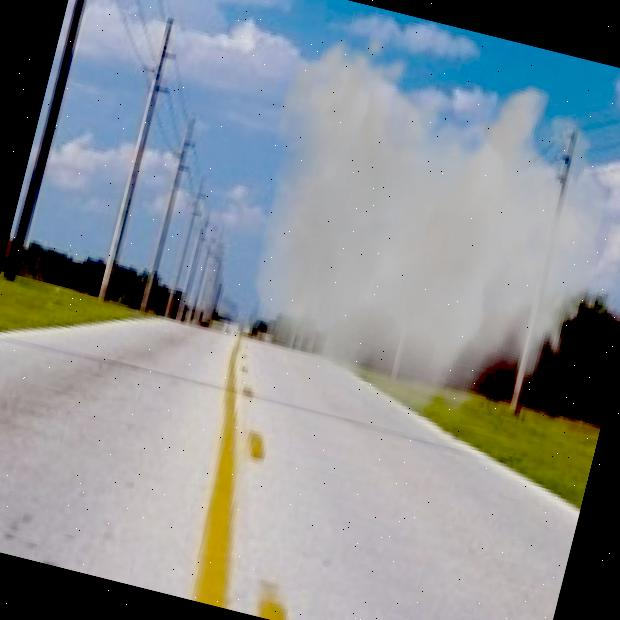smoke: (201, 15, 620, 500)
